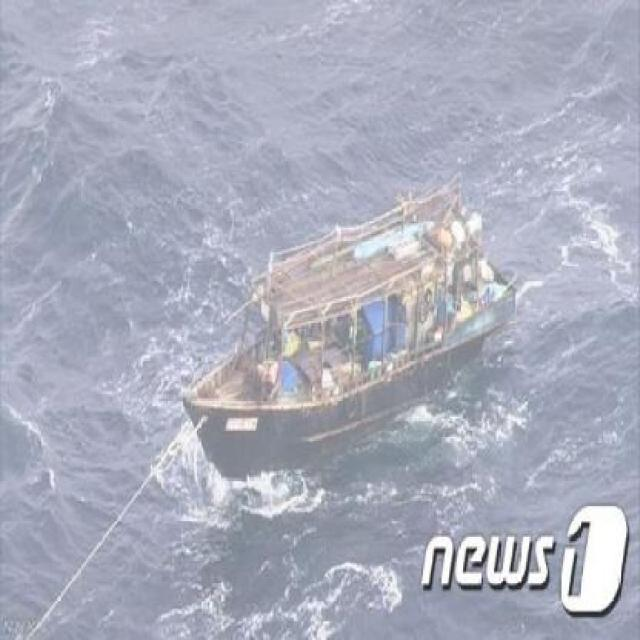fish-b: (171, 157, 523, 493)
